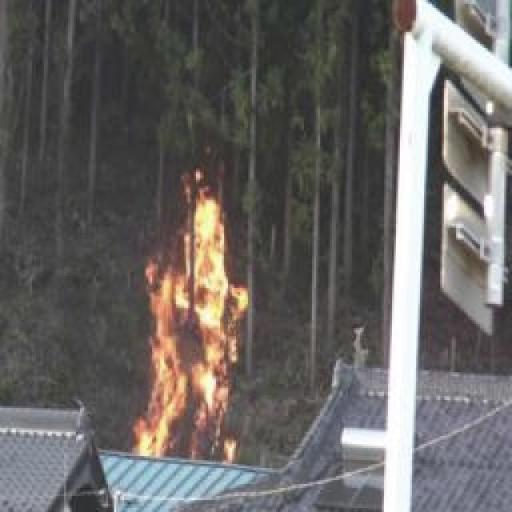smoke: (137, 184, 253, 465)
